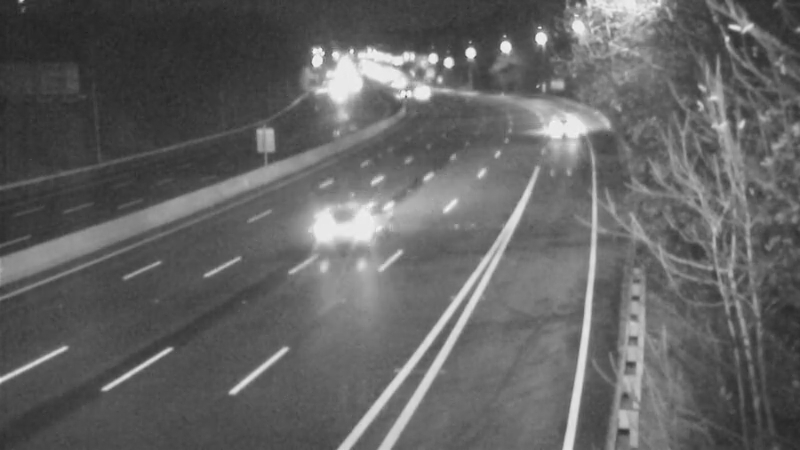vehicle: (300, 195, 380, 275), (398, 64, 448, 114), (528, 104, 578, 154)
